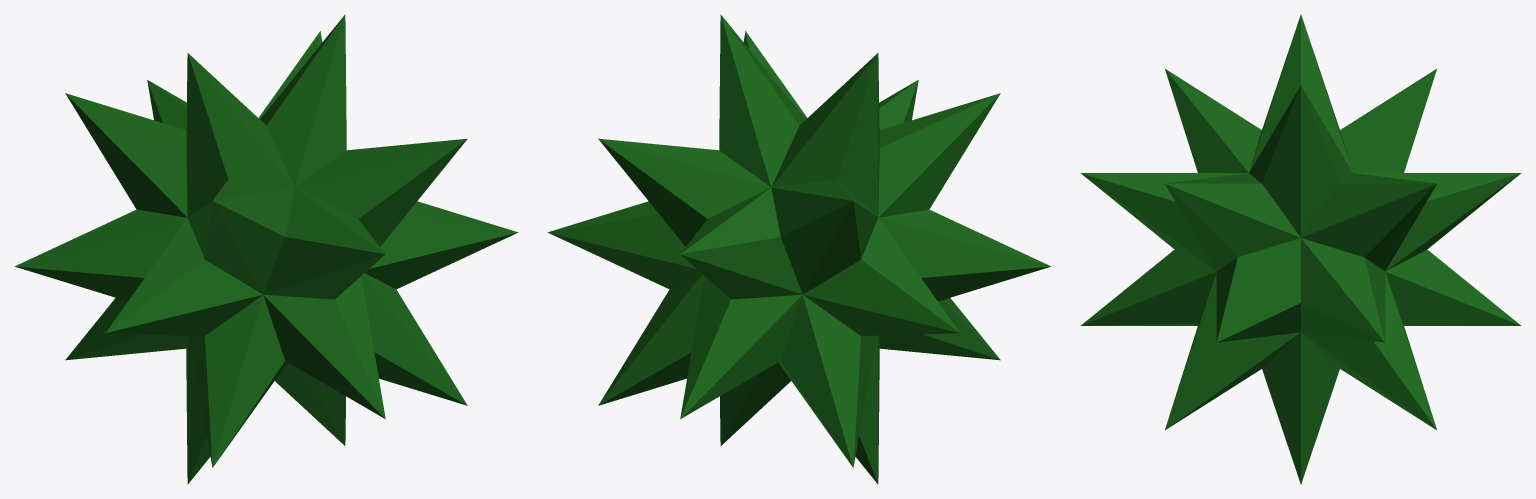
File: GreatStellapentakisDodecahedronL.obj
3 views of the same model, side by side, from view 1: azimuth 30°, elevation 25°; view 2: azimuth 150°, elevation 25°; view 3: azimuth 270°, elevation 25° (orthographic). The views are drawn at different scales.
Size of the model in its own units: 4.85 by 4.85 by 4.85.
